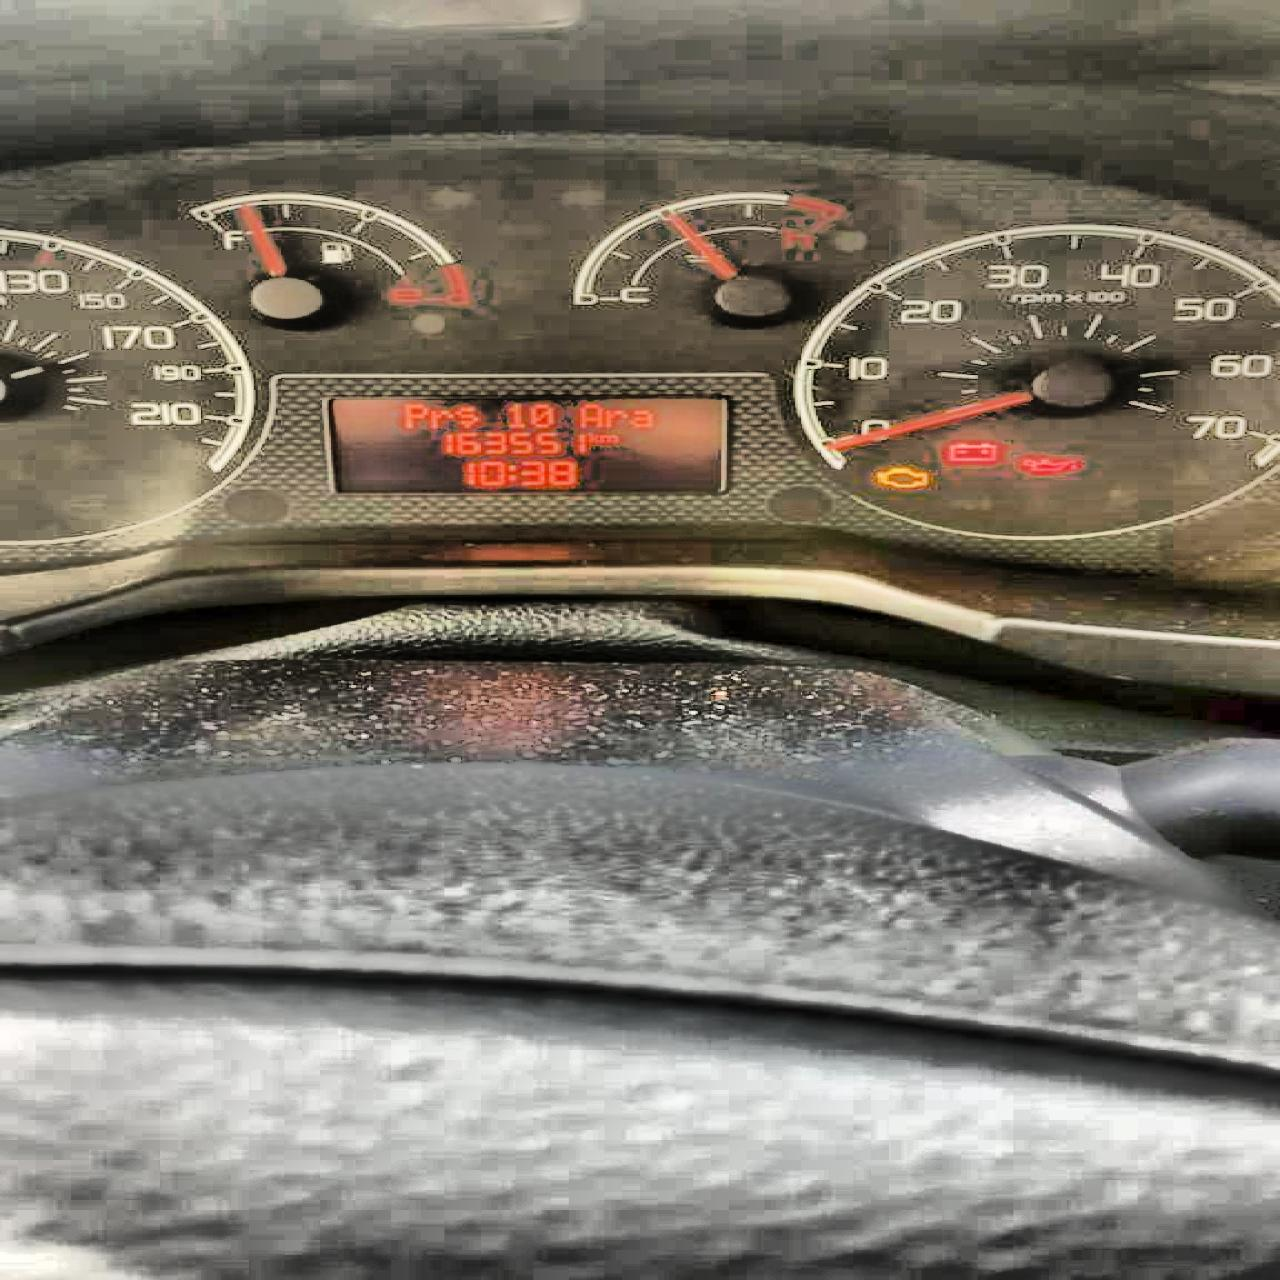0: (476, 459, 504, 486), (526, 402, 556, 428)
1: (504, 402, 524, 428), (462, 459, 476, 485), (440, 431, 454, 452), (573, 431, 585, 452)
3: (518, 459, 544, 485), (479, 430, 504, 454)
5: (533, 430, 560, 452), (506, 430, 531, 454)
6: (454, 430, 479, 454)
8: (546, 459, 576, 484)
X: (400, 401, 427, 429), (576, 402, 602, 429), (451, 403, 478, 428), (628, 409, 655, 428), (602, 408, 627, 428), (427, 409, 451, 429), (504, 464, 516, 481), (598, 434, 618, 443), (586, 430, 598, 442)
odometer: (313, 390, 735, 496)
